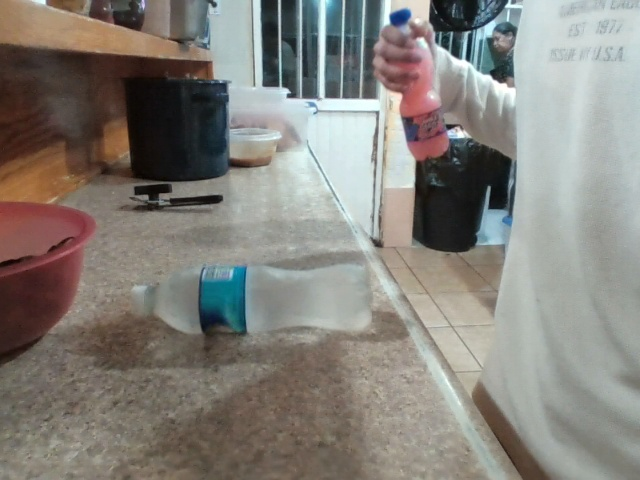botella: (110, 250, 498, 356), (361, 10, 487, 178)
